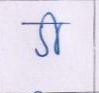i_matra: (44, 11, 66, 54)
